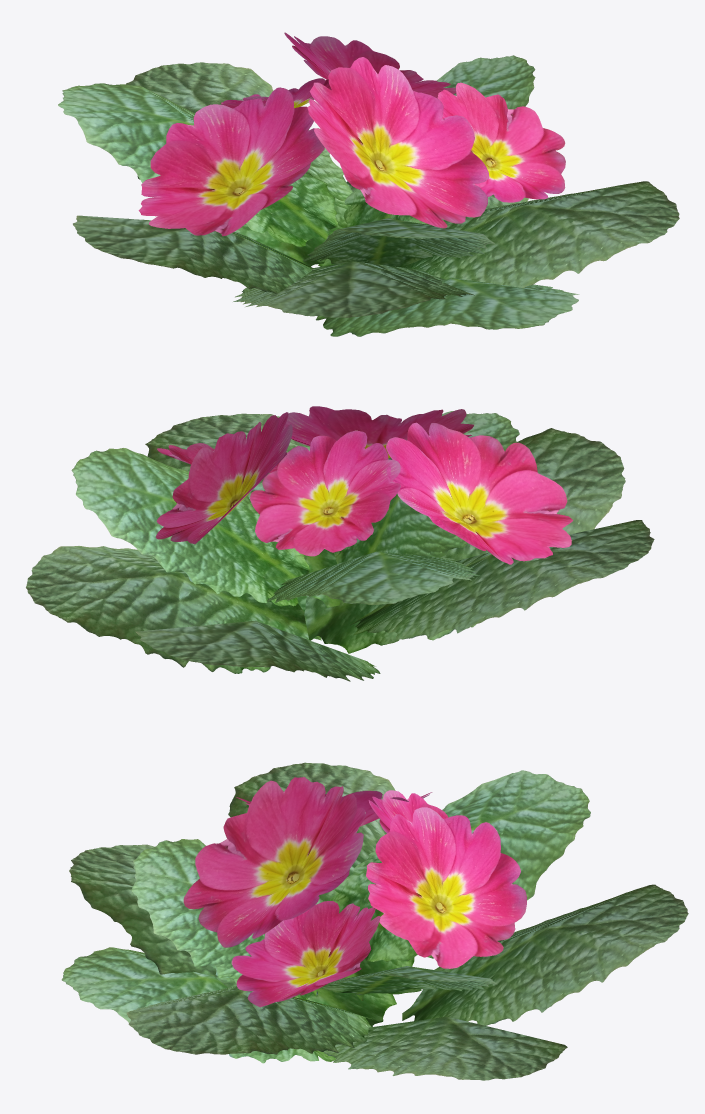
Rendered from PrimroseAcaulis1D.fbx.
3 renders of one model, top to bottom at view 1: azimuth 30°, elevation 25°; view 2: azimuth 150°, elevation 25°; view 3: azimuth 270°, elevation 25°, orthographic. The views are drawn at different scales.
Visible parts, largest first — view 1: PrimroseAcaulis1D_LOD0; view 2: PrimroseAcaulis1D_LOD0; view 3: PrimroseAcaulis1D_LOD0.
Boxes of the visible parts, left/top/right/bottom form: PrimroseAcaulis1D_LOD0: left=58, top=32, right=679, bottom=336; PrimroseAcaulis1D_LOD0: left=26, top=406, right=654, bottom=681; PrimroseAcaulis1D_LOD0: left=61, top=762, right=688, bottom=1080.
Size of what is drawn, in the model's own units: 43.8 by 20.22 by 44.61.
